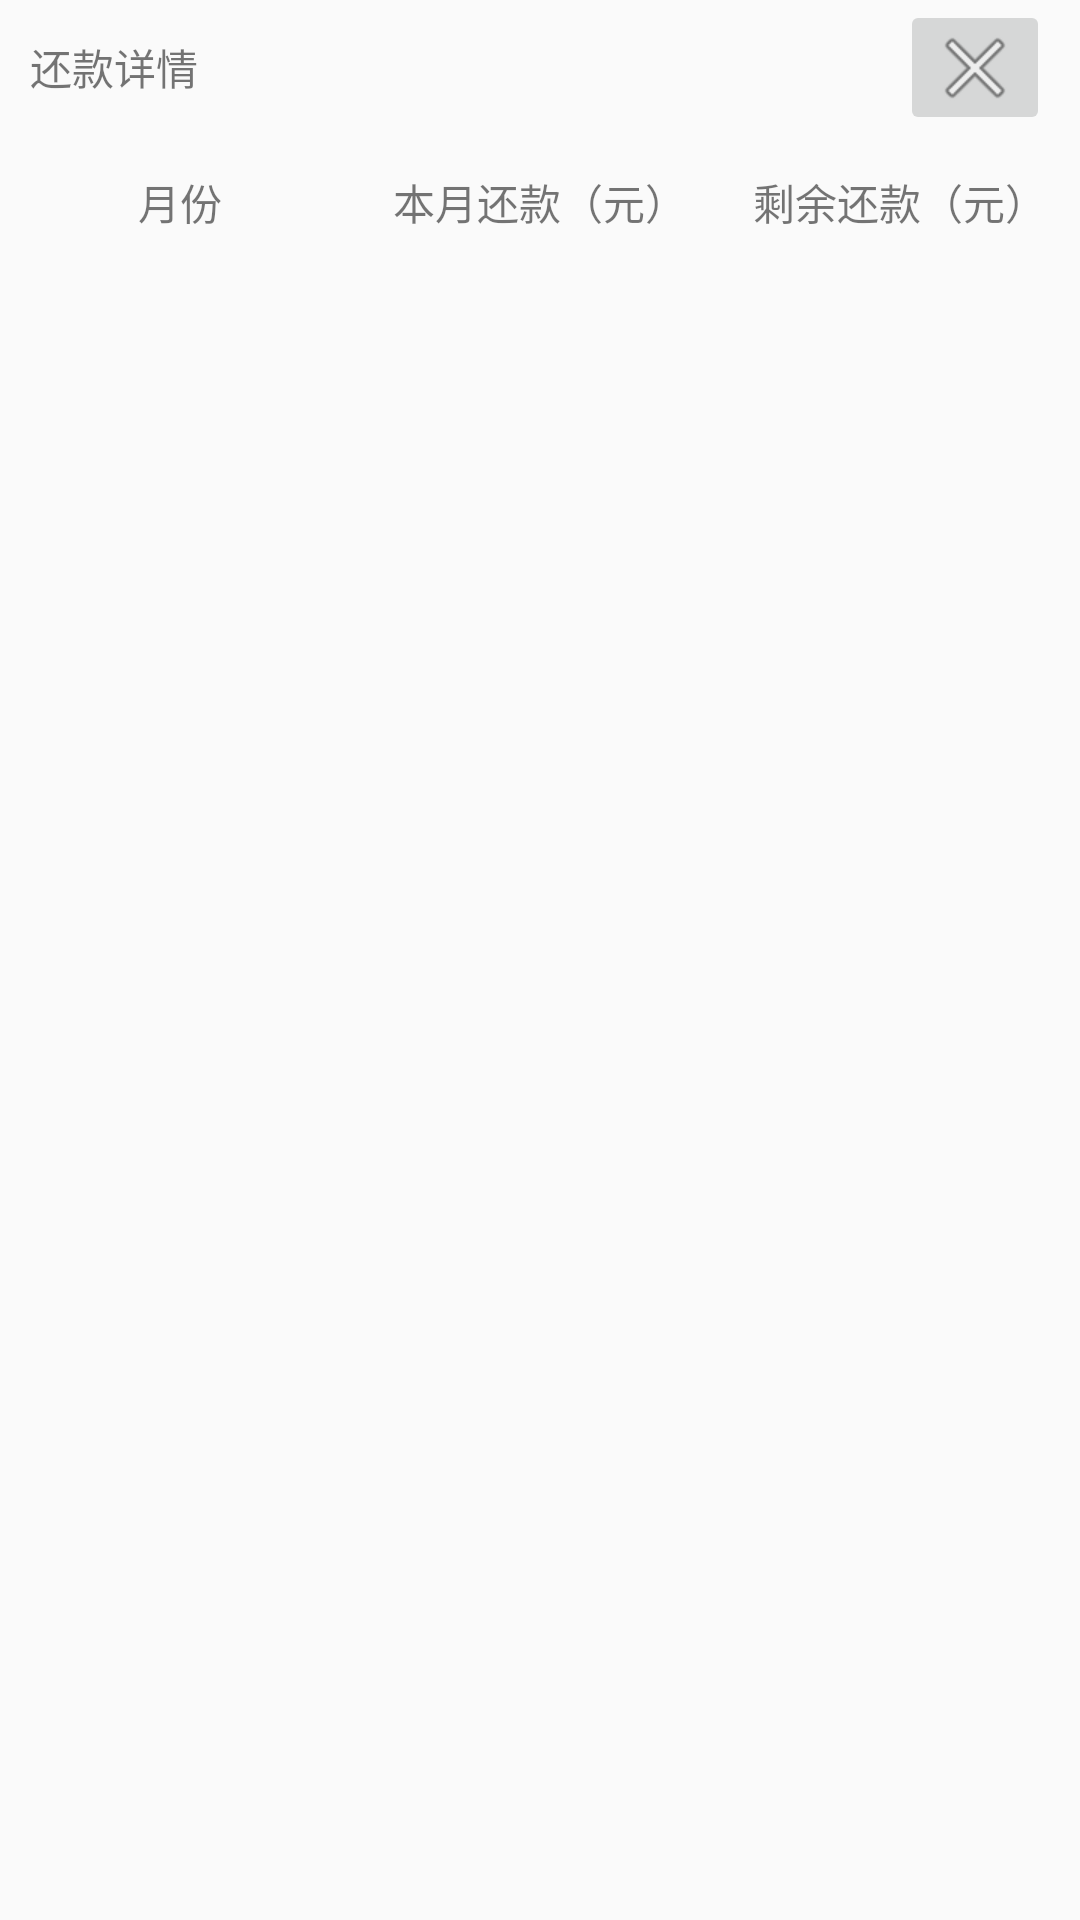

Where to tap for icons on this 1080 x 1920 app screen, as (x,y):
close clear cancel: (975,67)
